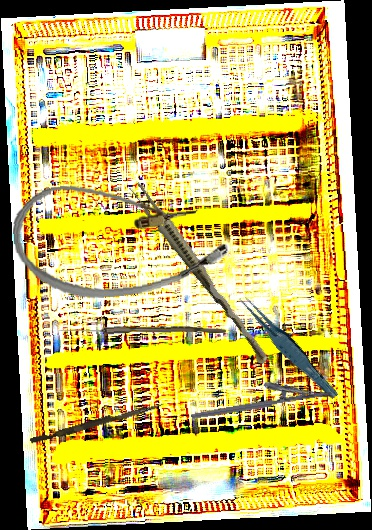Cannula: (9, 169, 232, 307)
Needle Holder: (187, 371, 334, 421)
Pusher: (29, 398, 165, 447)
Surgical Spoon: (58, 324, 227, 336)
Tissue Forceps: (124, 179, 277, 367), (236, 286, 340, 406)
